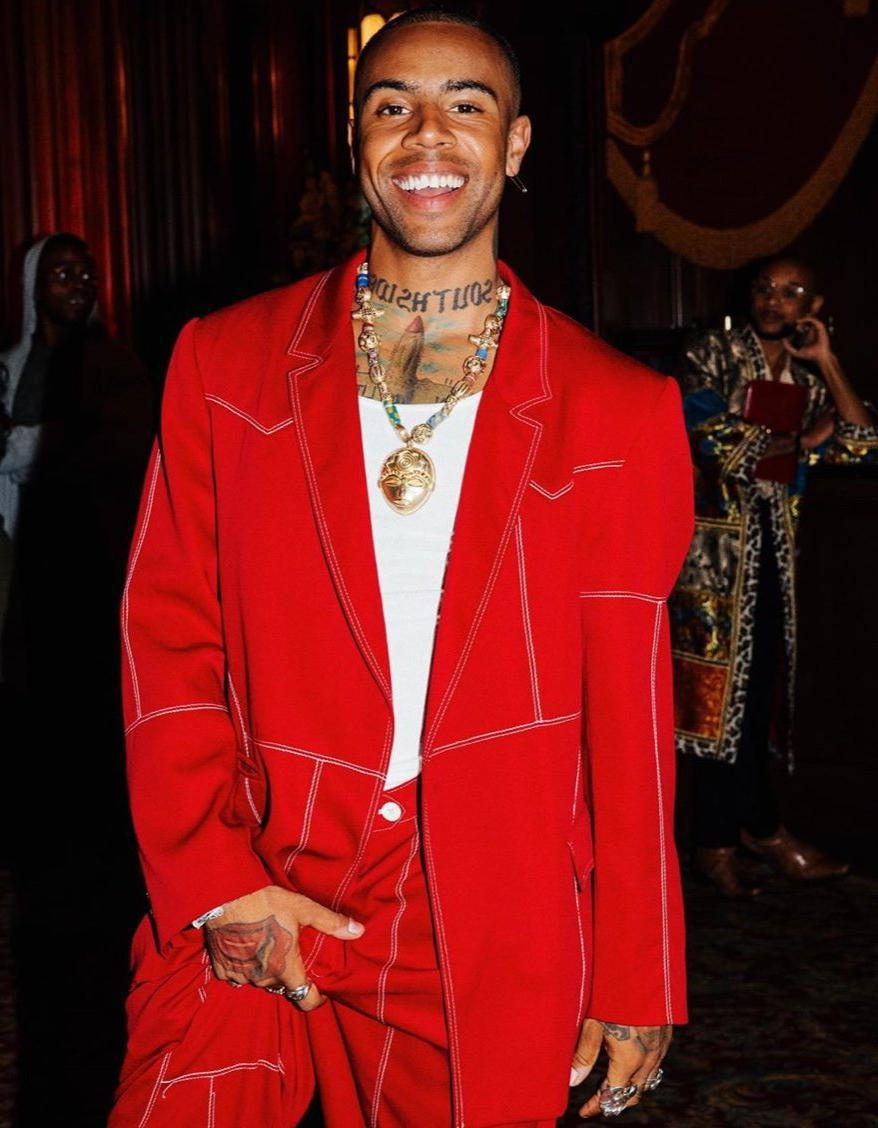Sober: (368, 33, 503, 231)
